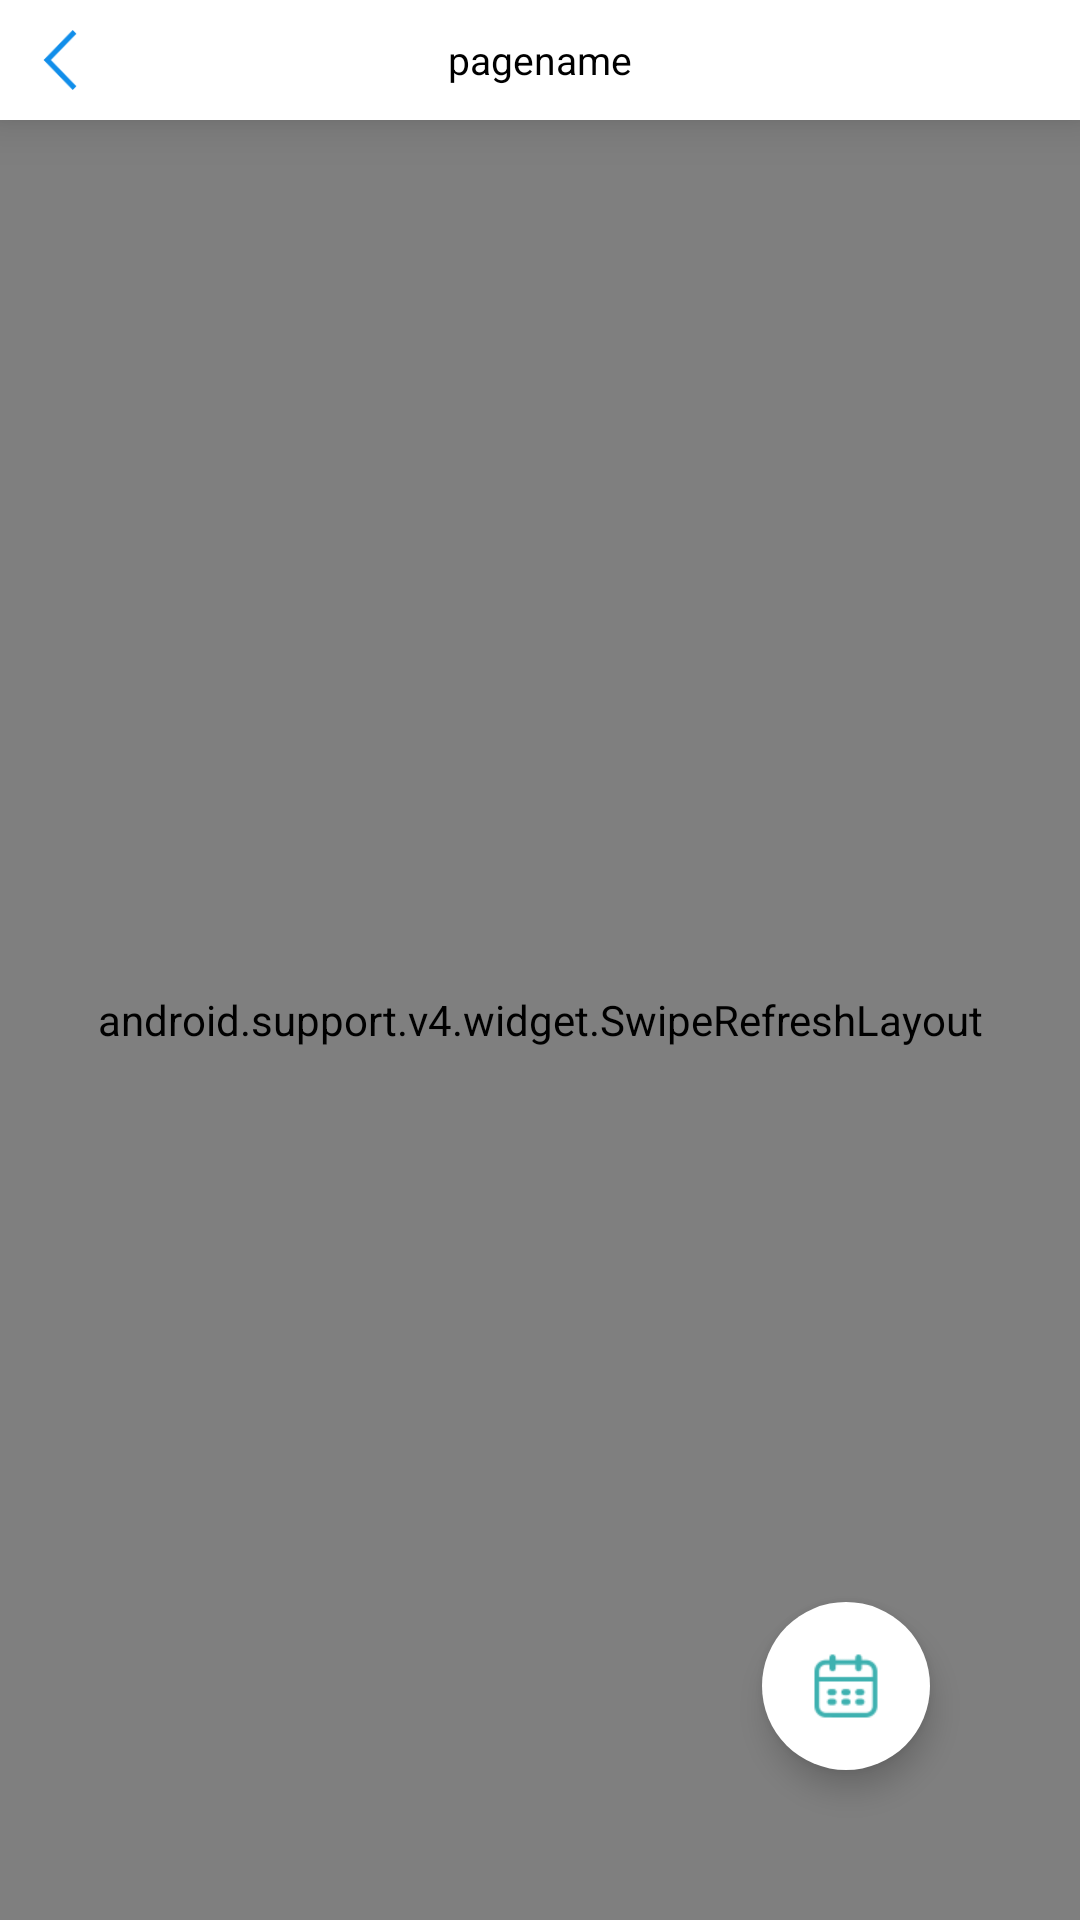

Screen size 1080px x 1920px. Icon name, then its center in pixels as [x,y]:
fanhui: [60,60]
riqi: [846,1686]
